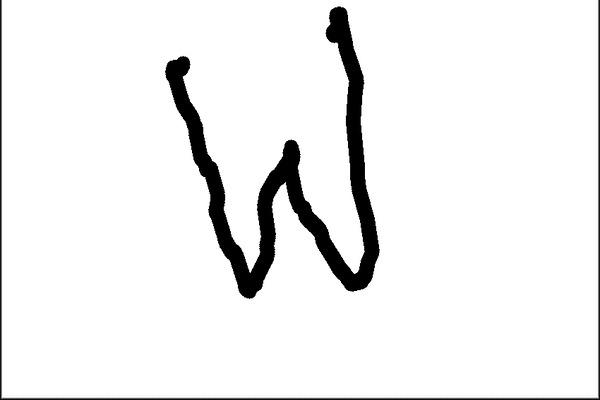w: (153, 0, 392, 321)
